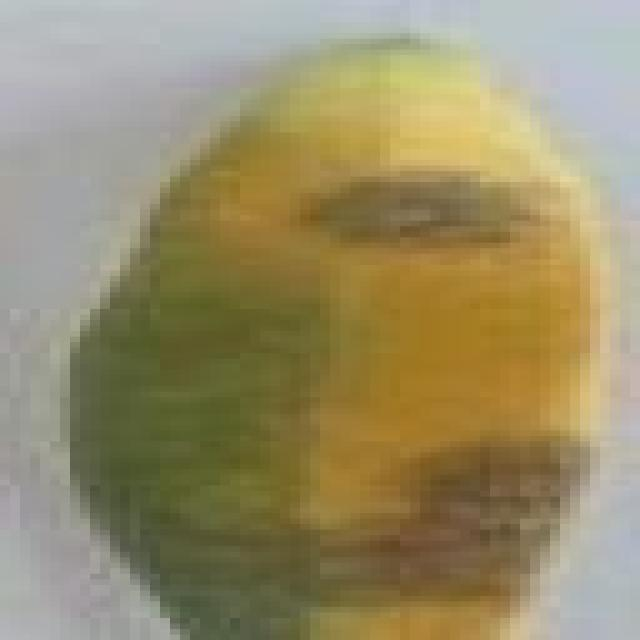Peacock Eye: (67, 44, 600, 634)
